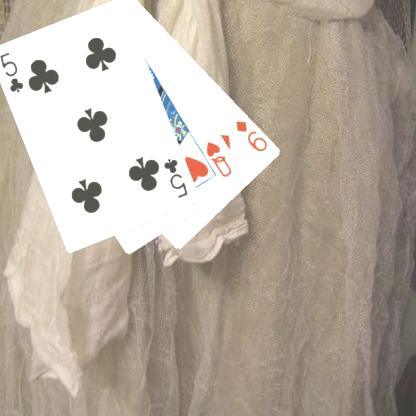5C: (160, 155, 190, 200), (0, 49, 25, 94)
9D: (234, 118, 270, 153)
QH: (203, 138, 234, 179)
